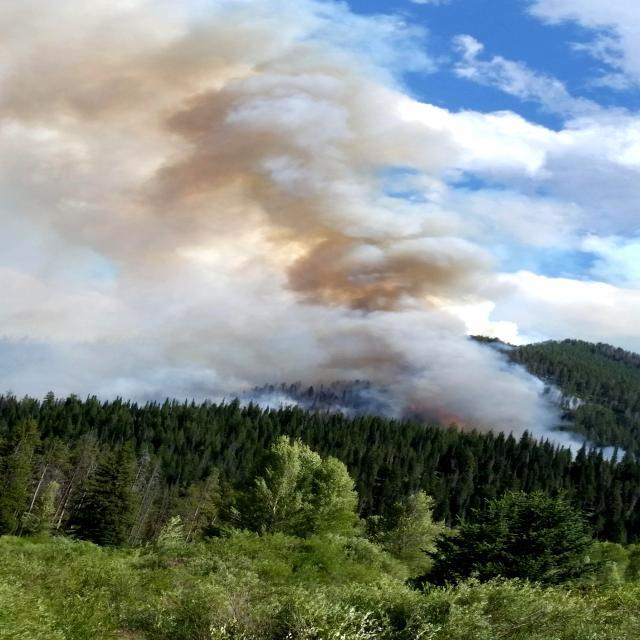Smoke: (0, 0, 598, 452)
